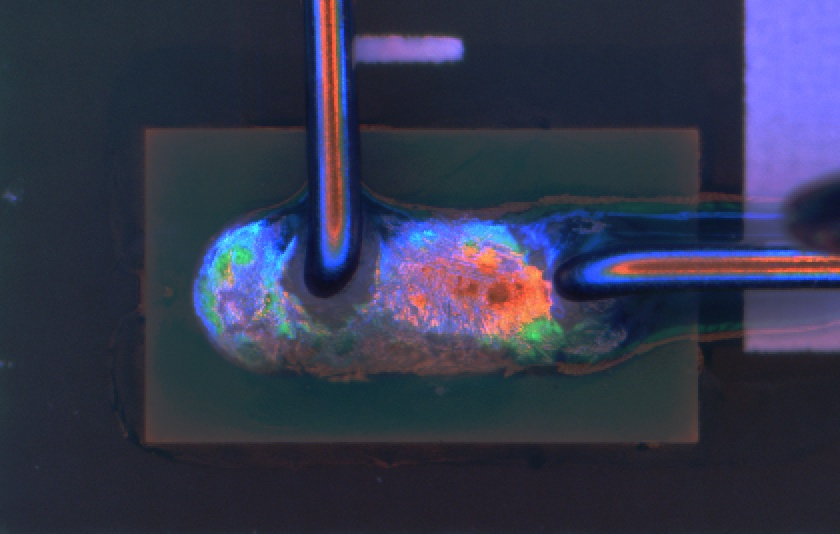spring: (545, 232, 840, 299), (298, 1, 356, 291)
spring_pin: (198, 201, 659, 364)
